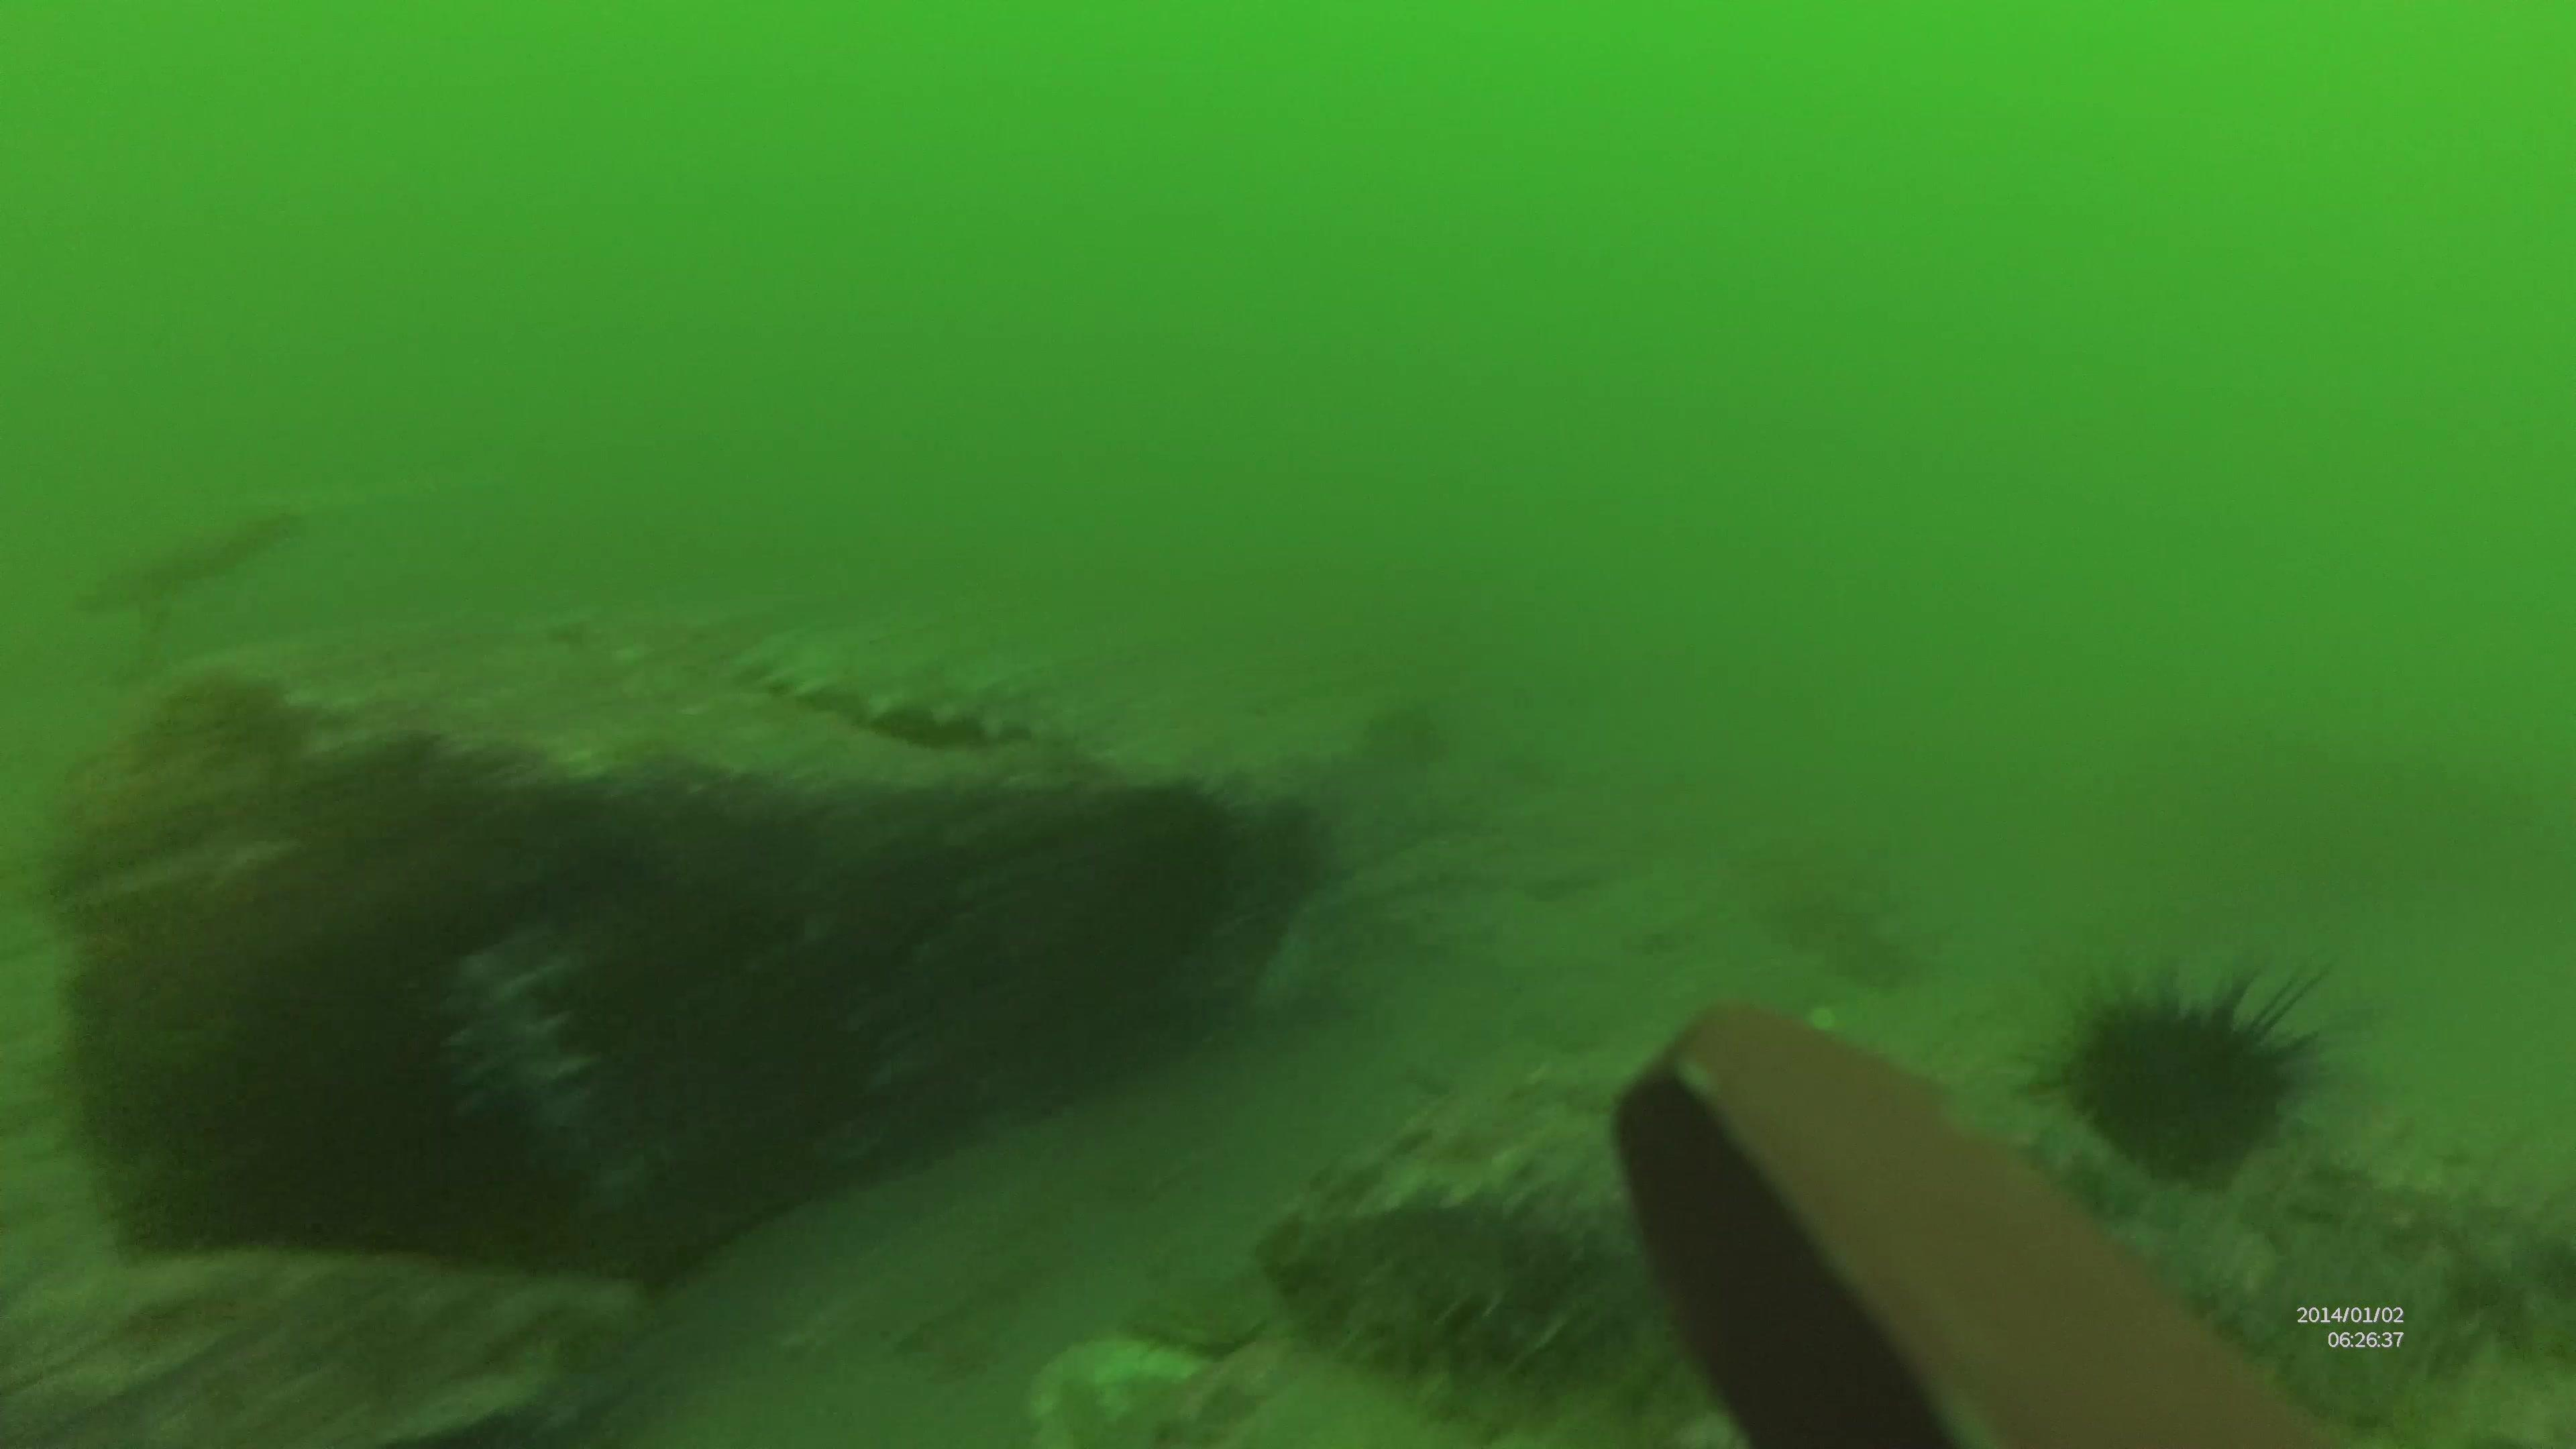echinus: (2031, 966, 2323, 1171), (1116, 780, 1258, 943)
holothurian: (722, 633, 1093, 757), (428, 943, 610, 1185)
scallop: (1012, 1330, 1230, 1447)
